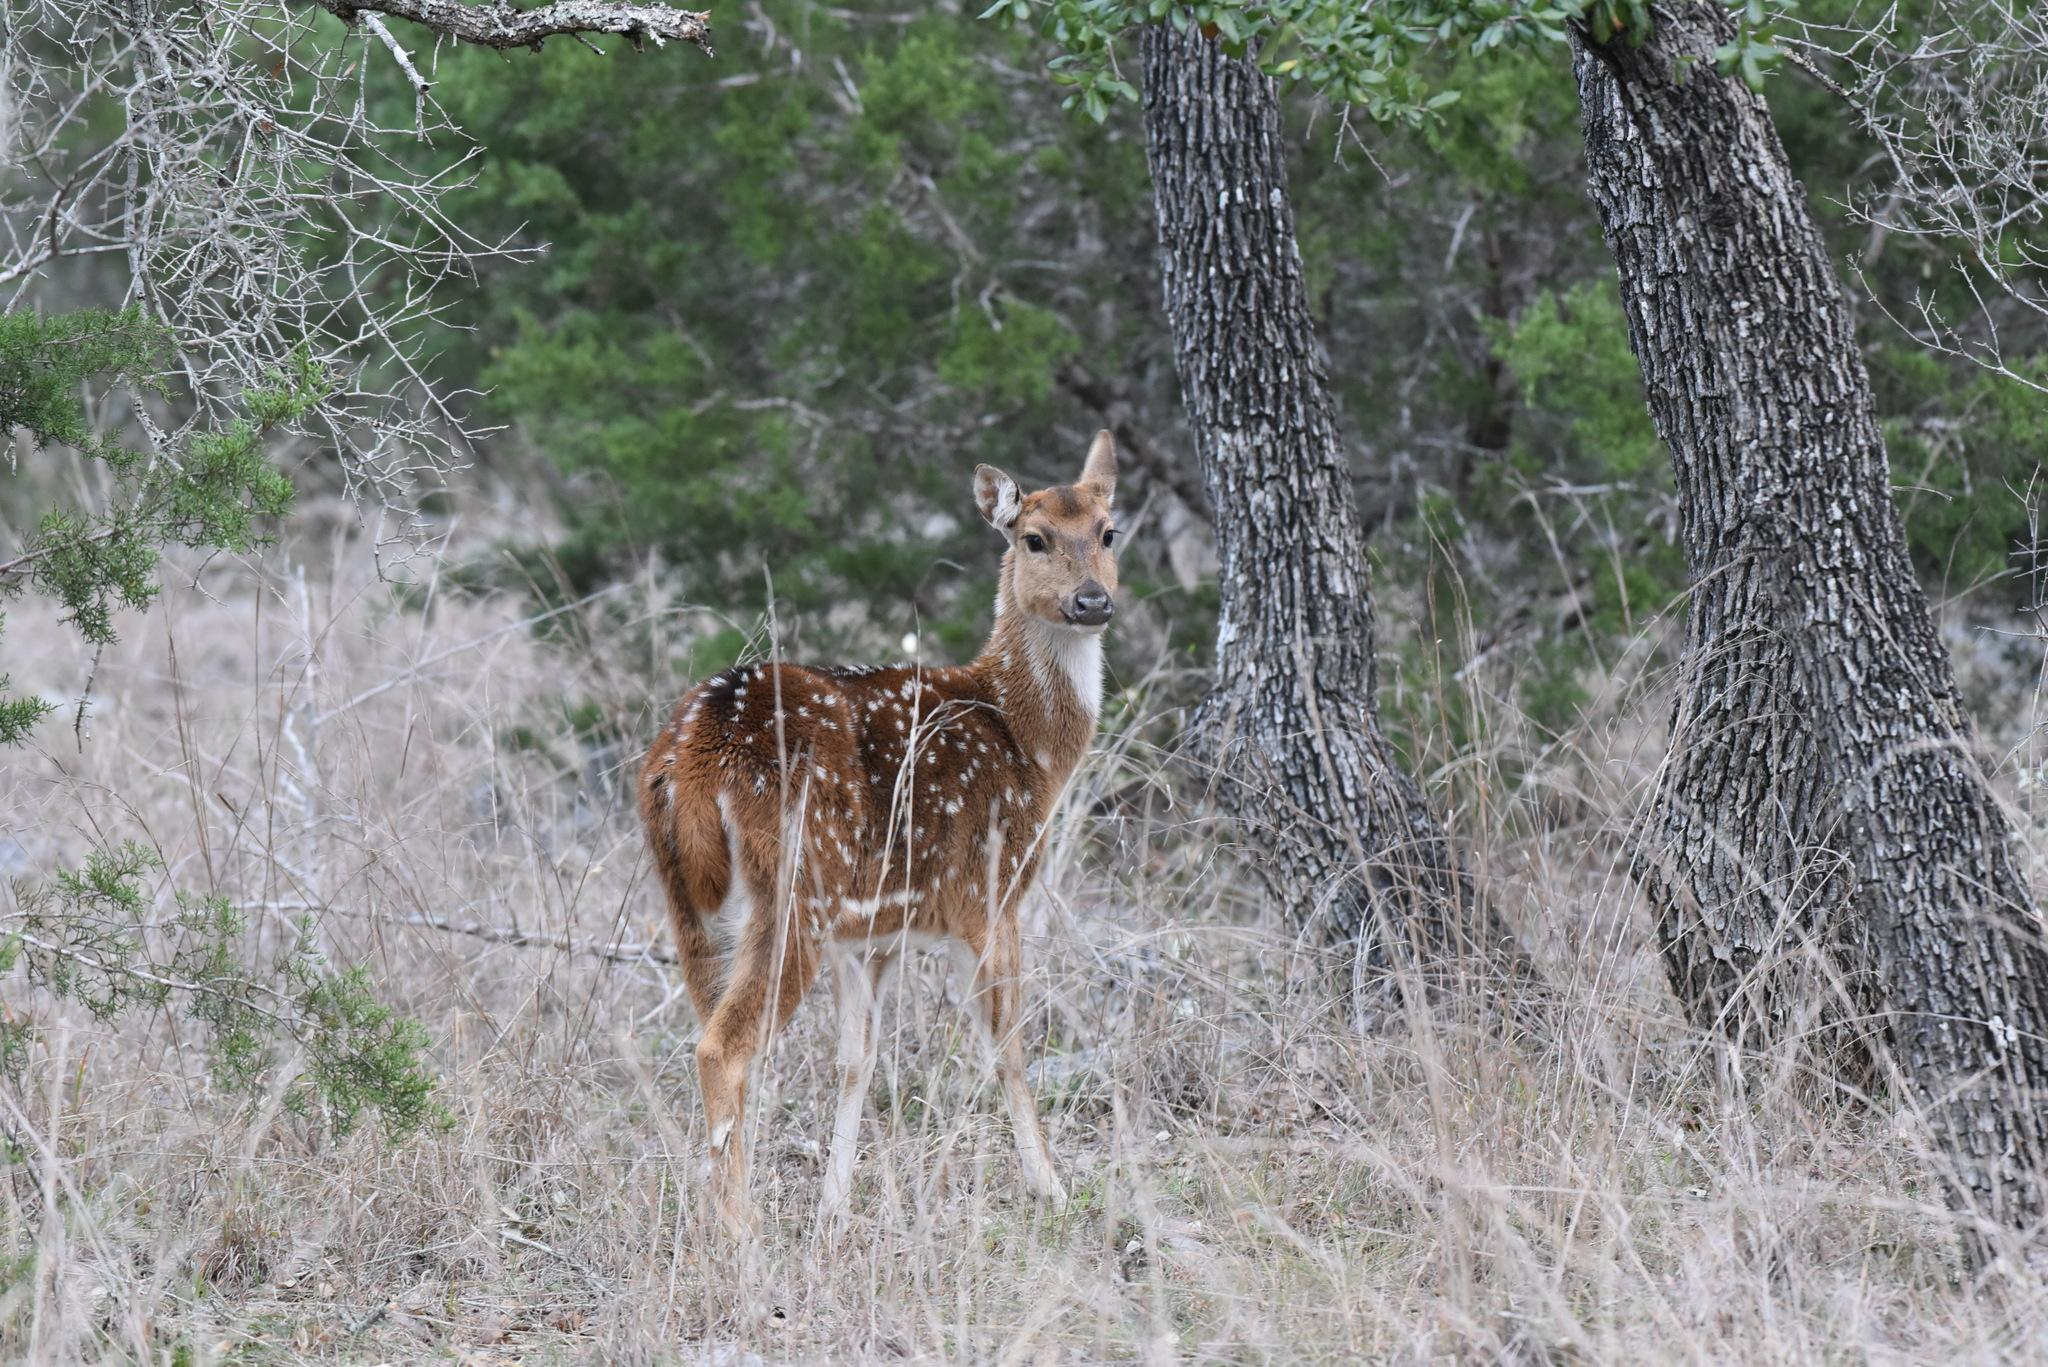Deer: (637, 432, 1118, 1234)
